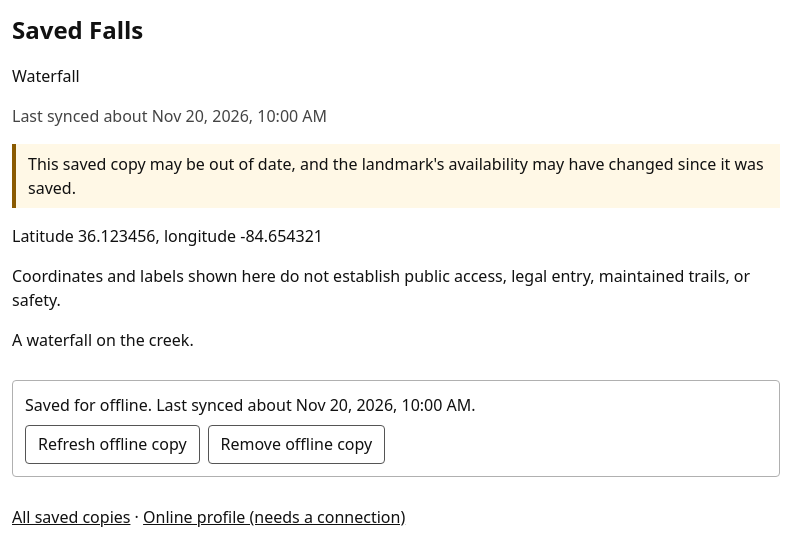
Test: OfflineLandmarkPage › Remove on the saved-copy page keeps the control mounted, so its result is announced
Click the button "Remove offline copy": (296, 444) [208,425,385,464]
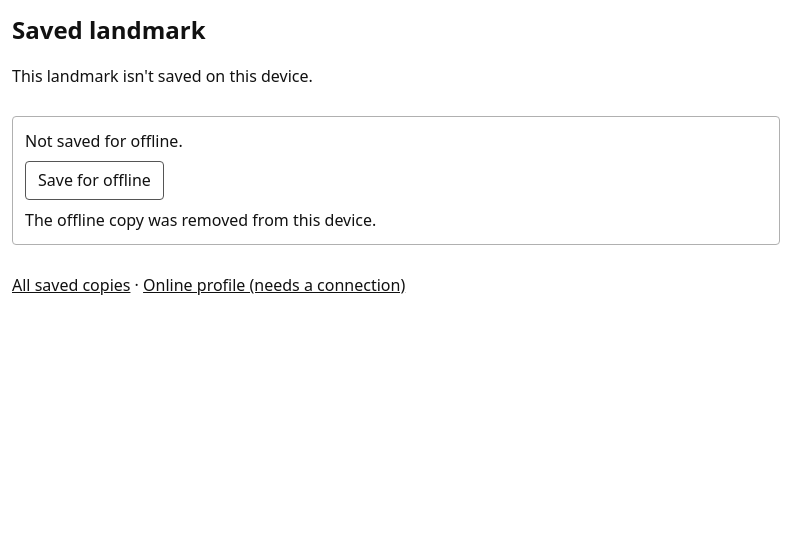
Result: the message reads "The offline copy was removed from this device." at [25,209,376,231]
Result: the text "This landmark isn't saved on this device." is shown at [12,65,313,87]
Result: the text "Latitude" is gone
